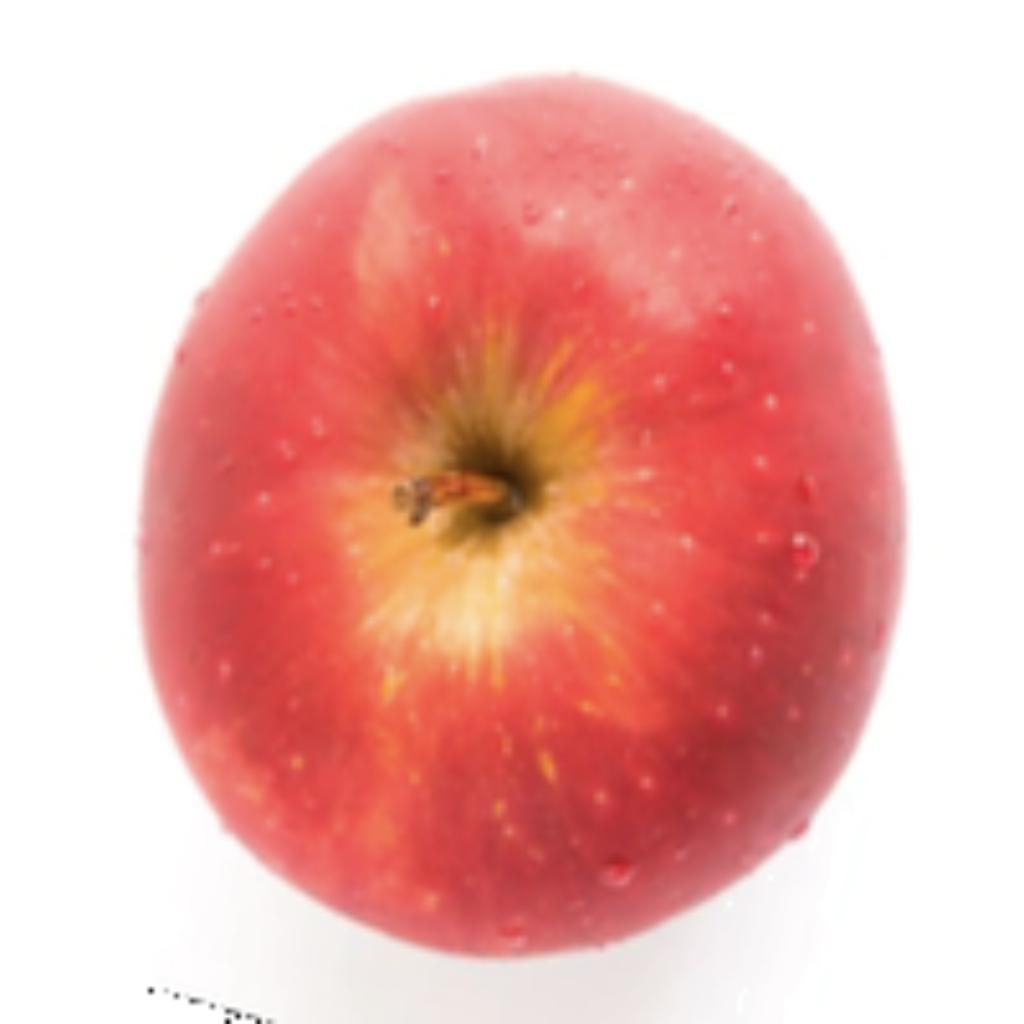apple: (128, 61, 911, 963)
